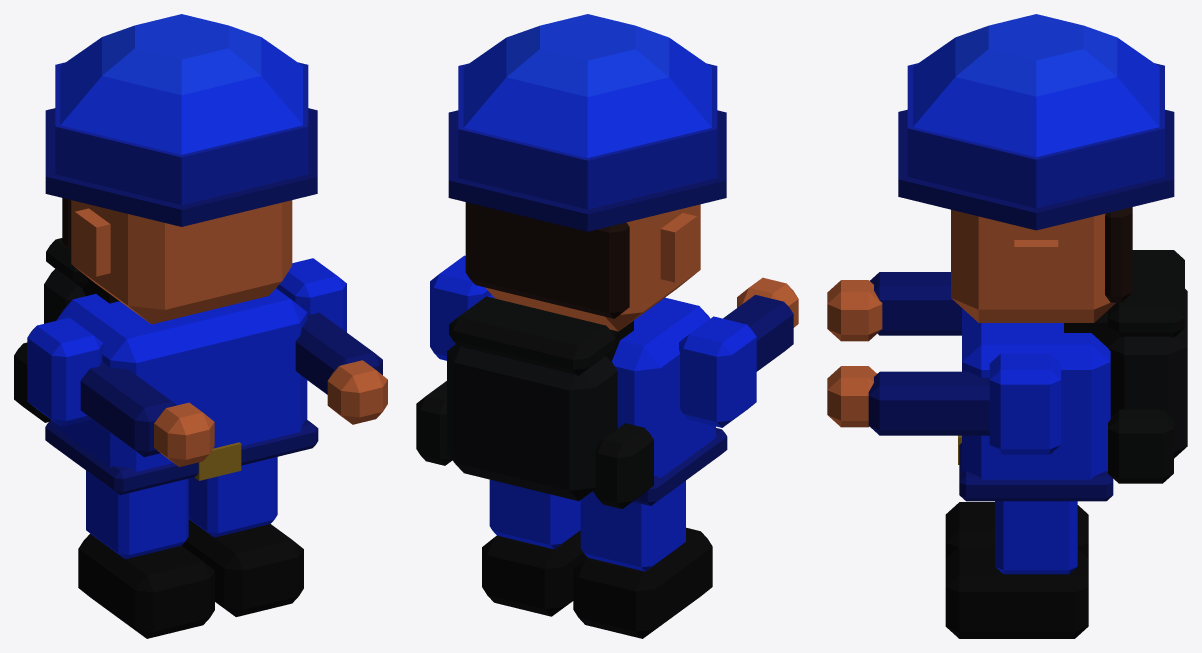
Rendered from soldier.glb.
3 views of the same model, side by side, from view 1: azimuth 30°, elevation 25°; view 2: azimuth 150°, elevation 25°; view 3: azimuth 270°, elevation 25° (orthographic). The views are drawn at different scales.
Parts seen in each view (by area): view 1: soldier; view 2: soldier; view 3: soldier.
Part boxes in pixels (bbox=[...]): soldier: bbox=[14, 14, 387, 638]; soldier: bbox=[416, 14, 798, 638]; soldier: bbox=[827, 14, 1187, 638].
Size of the model in its own units: 0.63 by 1.13 by 0.655.
